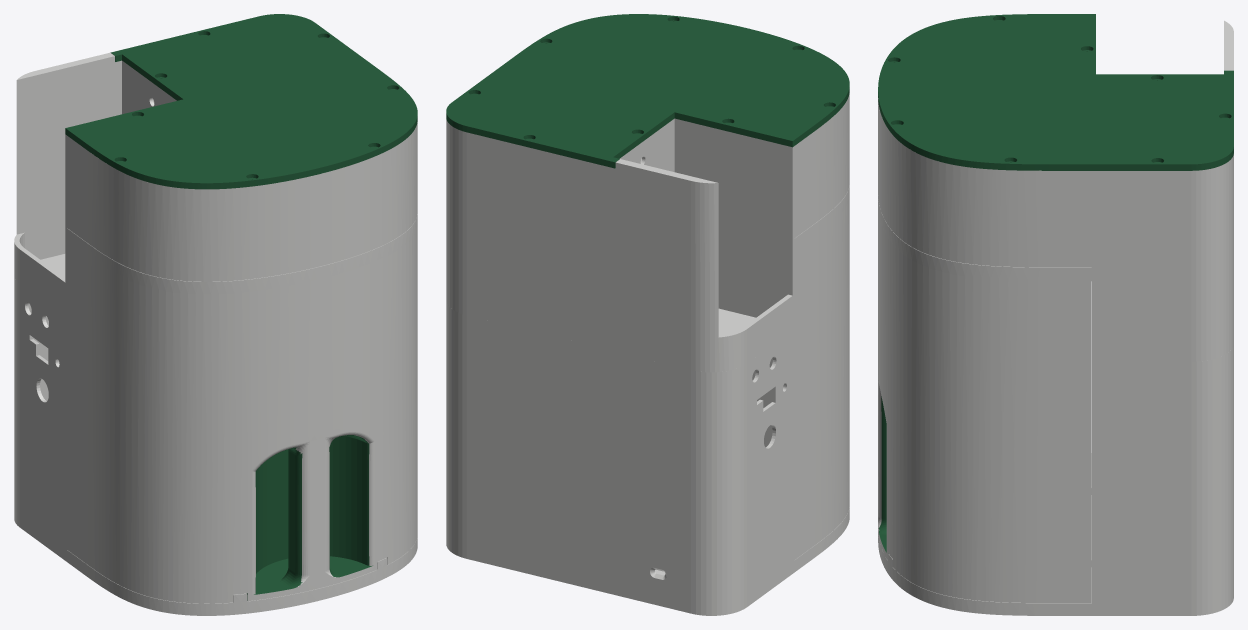
Rendered from ecohub-plus.glb.
3 views of the same model, side by side, from view 1: azimuth 30°, elevation 25°; view 2: azimuth 150°, elevation 25°; view 3: azimuth 270°, elevation 25° (orthographic). The views are drawn at different scales.
Parts seen in each view (by area): view 1: Body1-white, Body1 aa, Body6 aa, Body8 aa, Body1-green; view 2: Body8 aa, Body1 aa, Body6 aa, Body1-white; view 3: Body1-white, Body1 aa, Body6 aa, Body8 aa, Body1-green.
Part boxes in pixels (bbox=[...]): Body1-white: bbox=[67, 214, 417, 603]; Body1 aa: bbox=[14, 52, 417, 318]; Body6 aa: bbox=[65, 14, 417, 189]; Body8 aa: bbox=[14, 277, 417, 615]; Body1-green: bbox=[247, 435, 371, 600]; Body8 aa: bbox=[446, 302, 849, 615]; Body1 aa: bbox=[446, 93, 849, 372]; Body6 aa: bbox=[446, 14, 849, 168]; Body1-white: bbox=[794, 186, 849, 559]; Body1-white: bbox=[878, 195, 1091, 602]; Body1 aa: bbox=[878, 20, 1233, 361]; Body6 aa: bbox=[878, 14, 1233, 170]; Body8 aa: bbox=[878, 345, 1233, 615]; Body1-green: bbox=[878, 396, 888, 553].
Size of the model in its own units: 0.25 by 0.356 by 0.25.
